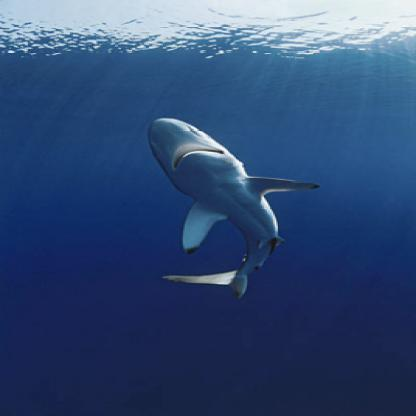shark: (147, 120, 319, 300)
